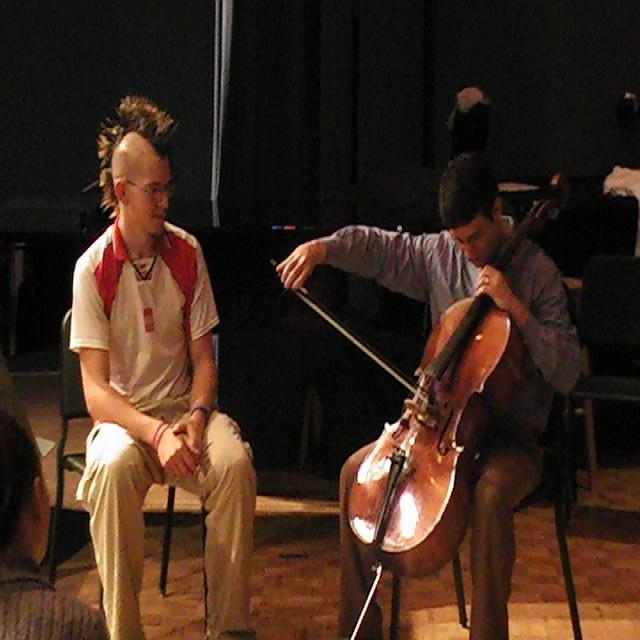cello: (346, 171, 574, 580)
